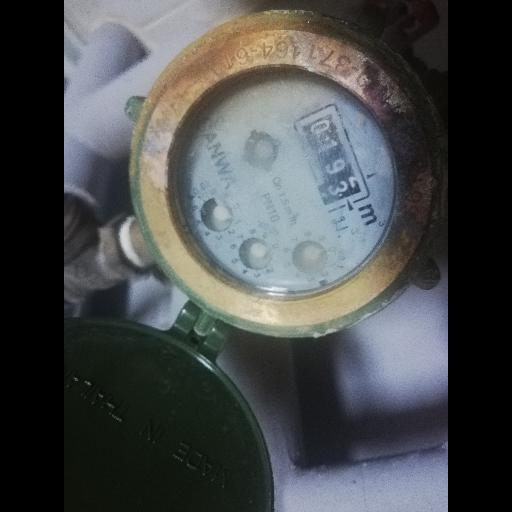0: (302, 113, 339, 143)
1: (309, 131, 345, 161)
3: (317, 171, 362, 206)
9: (317, 150, 354, 183)
border_water_meter_number: (291, 102, 372, 214)
